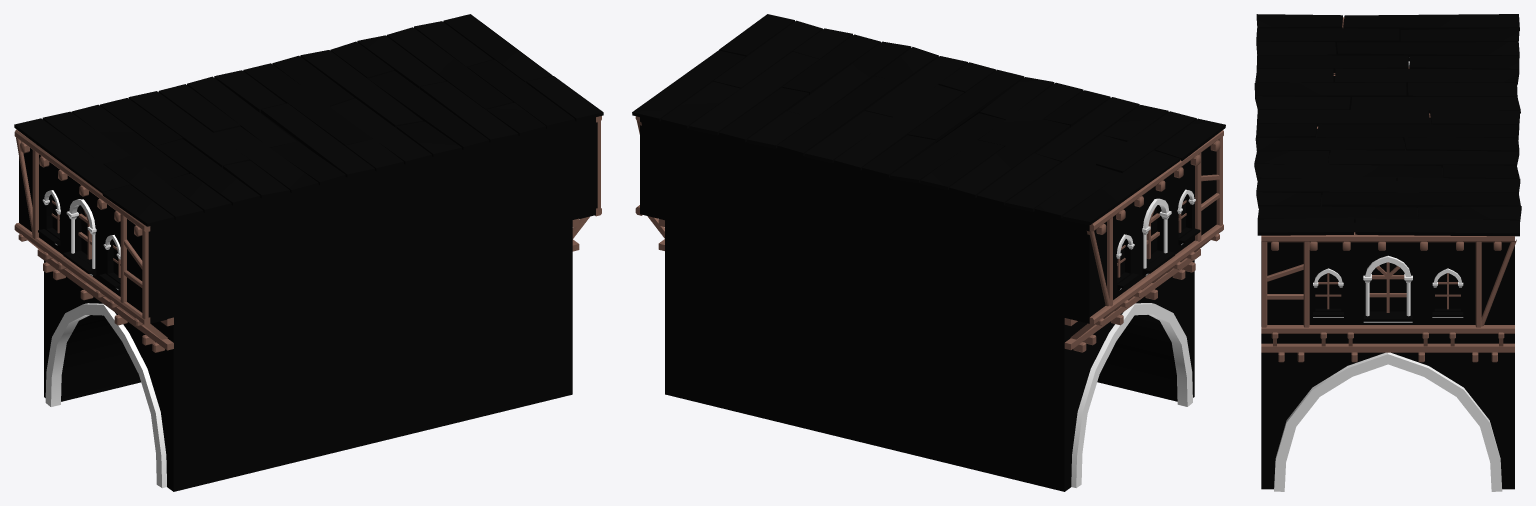
Rendered from civilian_house_24_b.FBX.
The picture shows the model from 3 angles, left to right: view 1: azimuth 30°, elevation 25°; view 2: azimuth 150°, elevation 25°; view 3: azimuth 270°, elevation 25°; orthographic projection. The views are drawn at different scales.
Parts seen in each view (by area): view 1: civilian_house_24_b_LOD0; view 2: civilian_house_24_b_LOD0; view 3: civilian_house_24_b_LOD0.
Part boxes in pixels (x1,y1,x2,y2): civilian_house_24_b_LOD0: (14, 14, 603, 491); civilian_house_24_b_LOD0: (632, 14, 1225, 491); civilian_house_24_b_LOD0: (1254, 14, 1521, 491).
Size of what is drawn, in the model's own units: 1243 by 711 by 633.
